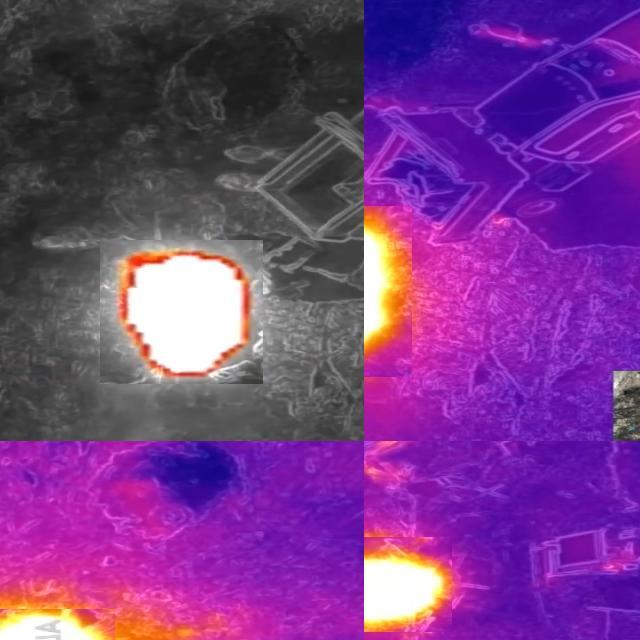fire: (101, 240, 264, 384), (365, 537, 453, 632), (365, 206, 413, 377), (1, 589, 125, 640)
